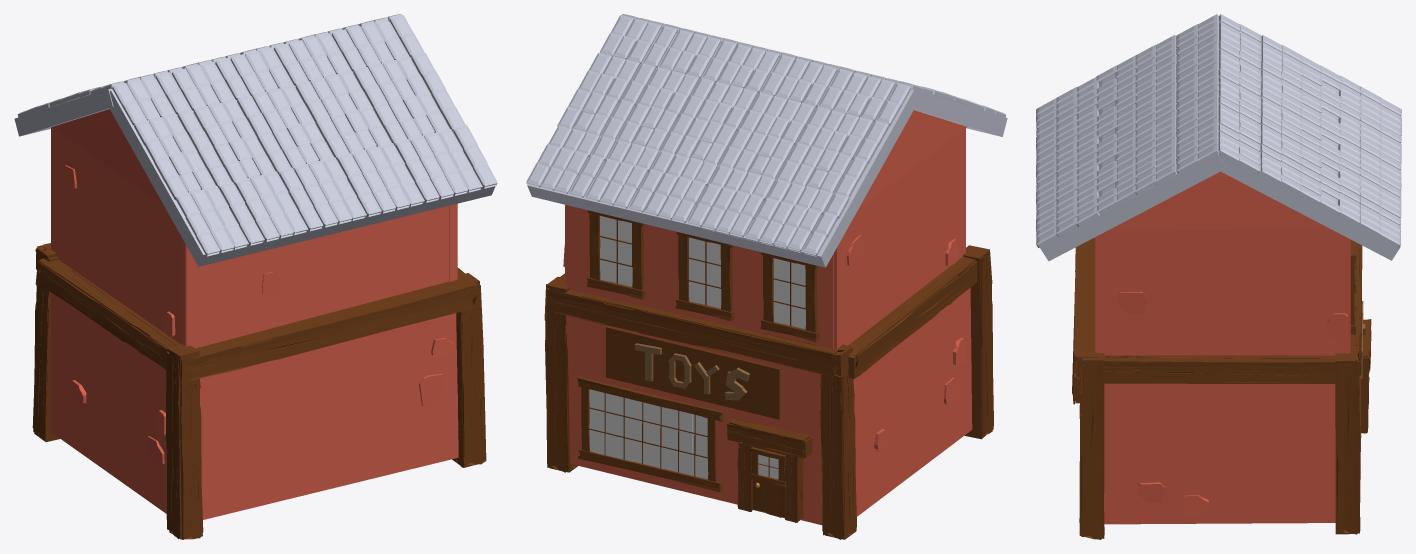
Rendered from Shop6.fbx.
3 views of the same model, side by side, from view 1: azimuth 30°, elevation 25°; view 2: azimuth 150°, elevation 25°; view 3: azimuth 270°, elevation 25° (orthographic). The views are drawn at different scales.
Parts seen in each view (by area): view 1: Cube.3853, Cube.3857, Cube.3858, Cube.3854, Cube.3959, Cube.3850, Cube.3967, Cube.3962, Cube.3968, Cube.3958, Cube.3966, Cube.3956 (+7 smaller); view 2: Cube.3854, Cube.3858, Cube.3852, Cube.3856, Cube.3916, Cube.3851, Cube.3939, Cube.3947, Cube.3943, Cube.3968, Cube.3956, Cube.3966 (+38 smaller); view 3: Cube.3855, Cube.3859, Cube.3969, Cube.3953, Cube.3964, Cube.3949, Cube.3850, Cube.3851, Cube.3958, Cube.3951, Cube.3856, Cube.3946 (+7 smaller).
Boxes of the visible parts, x1,y1,x2,y2 form: Cube.3853: (200, 313, 458, 519); Cube.3857: (181, 206, 448, 348); Cube.3858: (51, 127, 194, 347); Cube.3854: (51, 292, 166, 513); Cube.3959: (184, 285, 478, 379); Cube.3850: (109, 22, 496, 266); Cube.3967: (180, 353, 203, 539); Cube.3962: (461, 281, 485, 465); Cube.3968: (52, 109, 163, 205); Cube.3958: (188, 276, 478, 377); Cube.3966: (166, 351, 181, 539); Cube.3956: (37, 263, 162, 362); Cube.3854: (853, 288, 971, 516); Cube.3858: (834, 128, 965, 348); Cube.3852: (566, 315, 822, 524); Cube.3856: (565, 205, 833, 348); Cube.3916: (606, 326, 780, 419); Cube.3851: (527, 29, 918, 267); Cube.3939: (547, 292, 839, 376); Cube.3947: (545, 287, 568, 472); Cube.3943: (821, 374, 844, 539); Cube.3968: (859, 110, 966, 208); Cube.3956: (855, 269, 970, 378); Cube.3966: (980, 249, 993, 436); Cube.3855: (1104, 383, 1335, 524); Cube.3859: (1095, 229, 1341, 355); Cube.3969: (1108, 171, 1330, 230); Cube.3953: (1104, 361, 1335, 383); Cube.3964: (1081, 361, 1104, 539); Cube.3949: (1337, 360, 1360, 534); Cube.3850: (1039, 153, 1226, 261); Cube.3851: (1219, 154, 1400, 260); Cube.3958: (1076, 238, 1098, 377); Cube.3951: (1104, 355, 1335, 362); Cube.3856: (1341, 235, 1350, 353); Cube.3946: (1335, 351, 1357, 534).
Size of the model in its own units: 1441 by 1770 by 1526.
